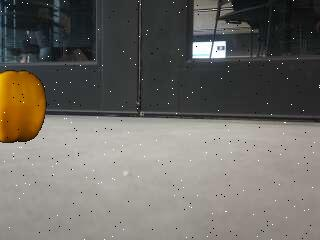Capsicum: (1, 70, 49, 144)
